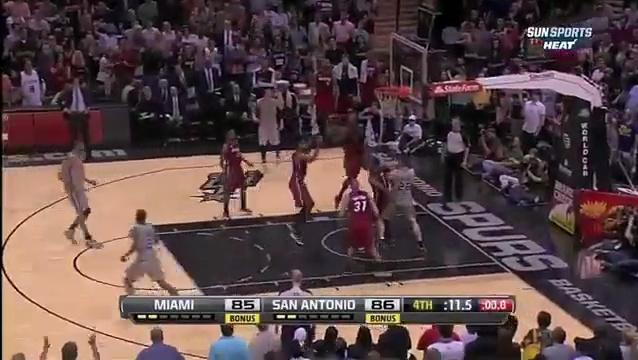Backboard: (393, 35, 422, 108)
Basket: (375, 86, 401, 115)
Person: (59, 140, 100, 250), (124, 209, 174, 295), (342, 166, 384, 268), (214, 127, 254, 223), (389, 156, 426, 250), (333, 105, 366, 207), (250, 87, 288, 166), (286, 140, 319, 223), (364, 154, 389, 210)
Referee: (440, 116, 471, 212), (278, 269, 315, 298)
